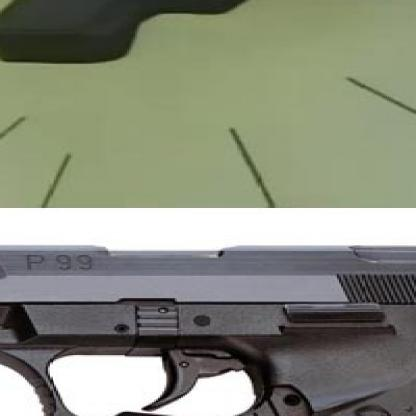gun: (0, 234, 414, 415), (0, 0, 414, 68)
